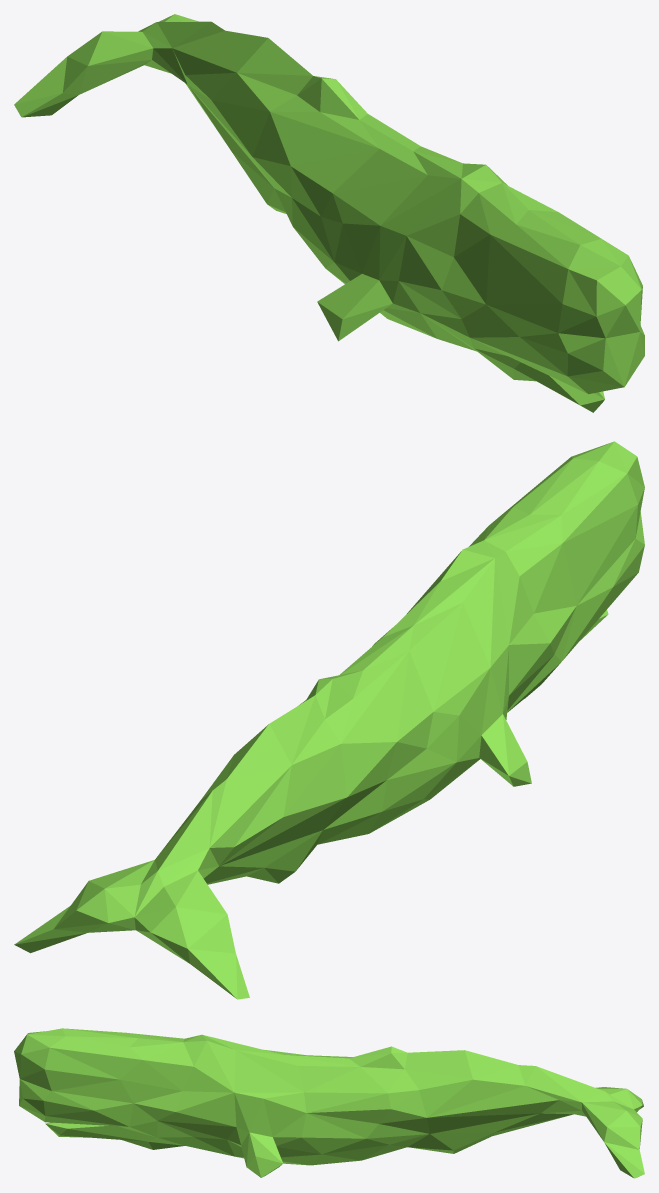
Rendered from Whale.obj.
3 renders of one model, top to bottom at view 1: azimuth 30°, elevation 25°; view 2: azimuth 150°, elevation 25°; view 3: azimuth 270°, elevation 25°, orthographic. The views are drawn at different scales.
Visible parts, largest first — view 1: Whale; view 2: Whale; view 3: Whale.
Boxes of the visible parts, box(x1,y1,x2,y2) form: Whale: box(14, 14, 644, 412); Whale: box(14, 441, 644, 999); Whale: box(14, 1028, 644, 1178).
Bounding box in the file's own units: 182 × 159 × 688.
